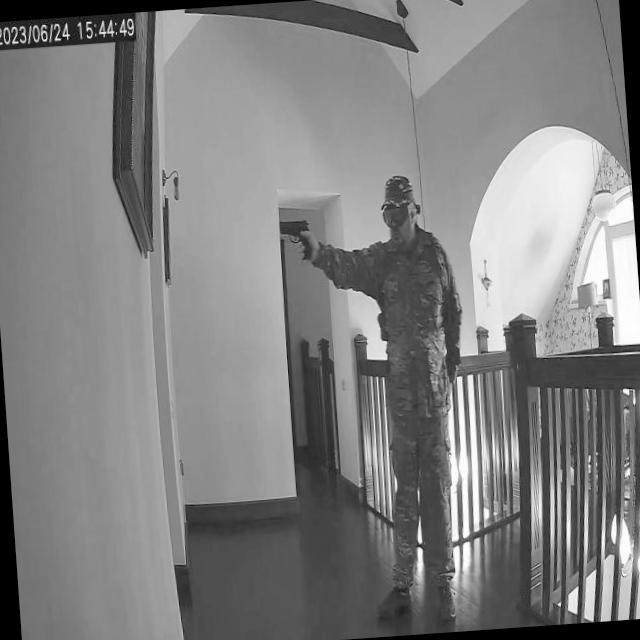gun: (276, 213, 314, 263)
person with a gun: (349, 169, 483, 633)
